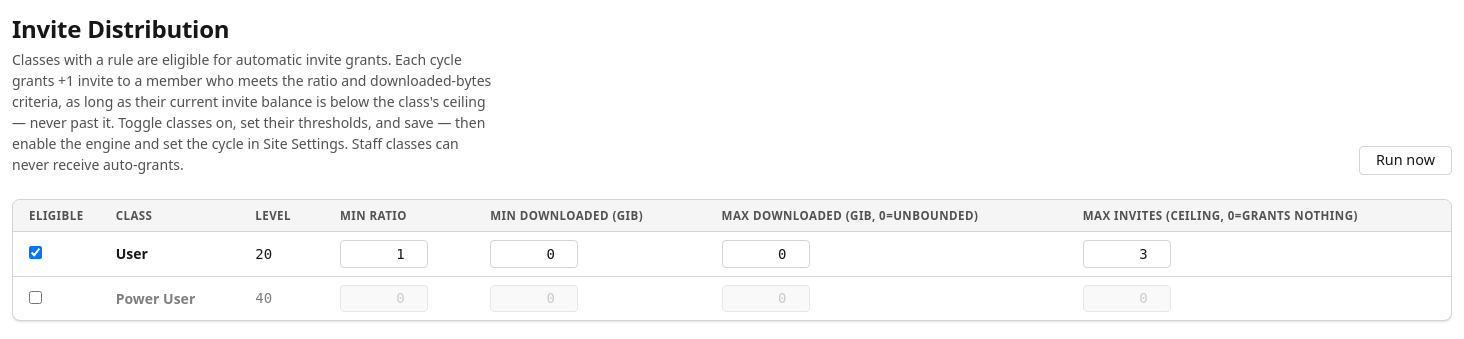
AdminInviteDistributionPage › reports a skip reason when the engine is disabled
Expected: the text "User" is shown, [100,232,239,276]
Click the button "Run now". click: [1405, 160]
box: [1359,146,1452,175]
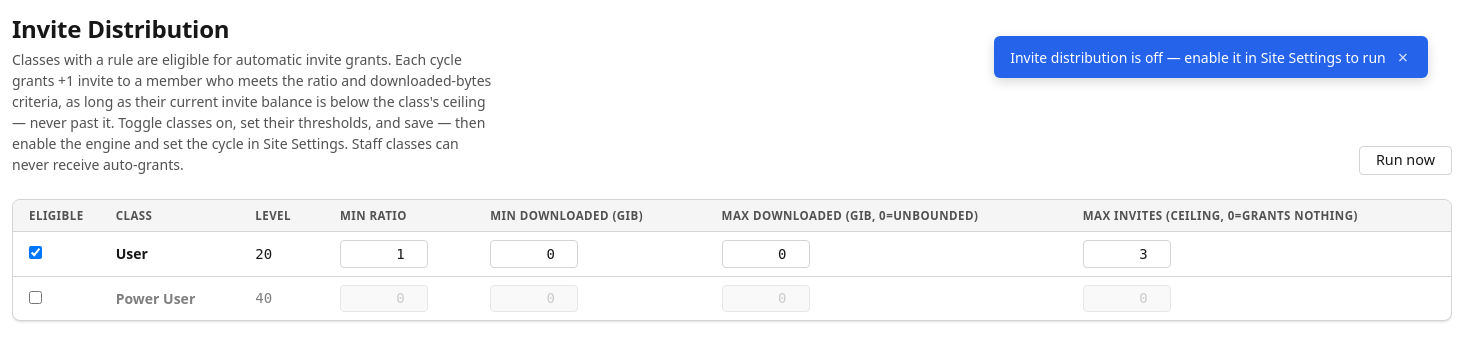
Expected: the text "Invite distribution is off — enable it in Site Settings to run" is shown, [1010,48,1386,66]
